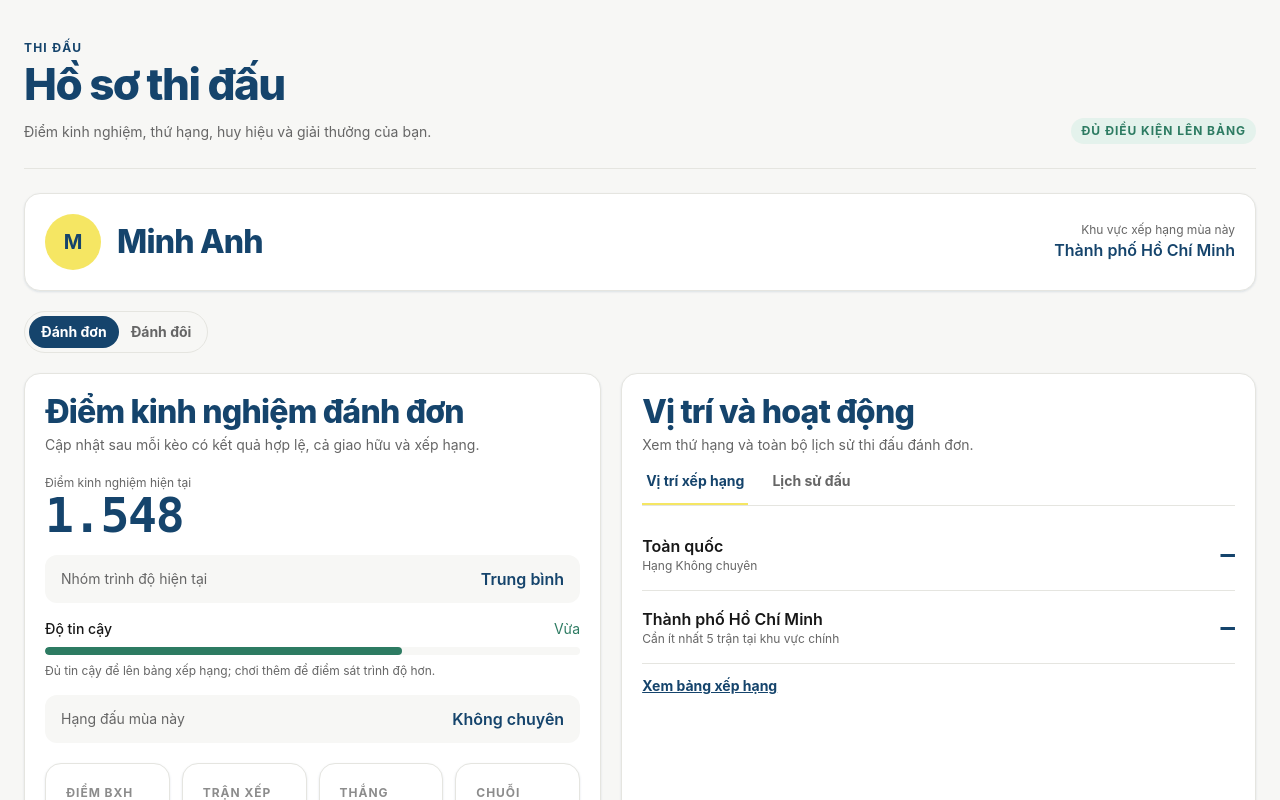
Test case: declares the undeclared doubles tier once
Click the button "Đánh đôi".
click(161, 332)  # box x1=119 y1=316 x2=203 y2=348
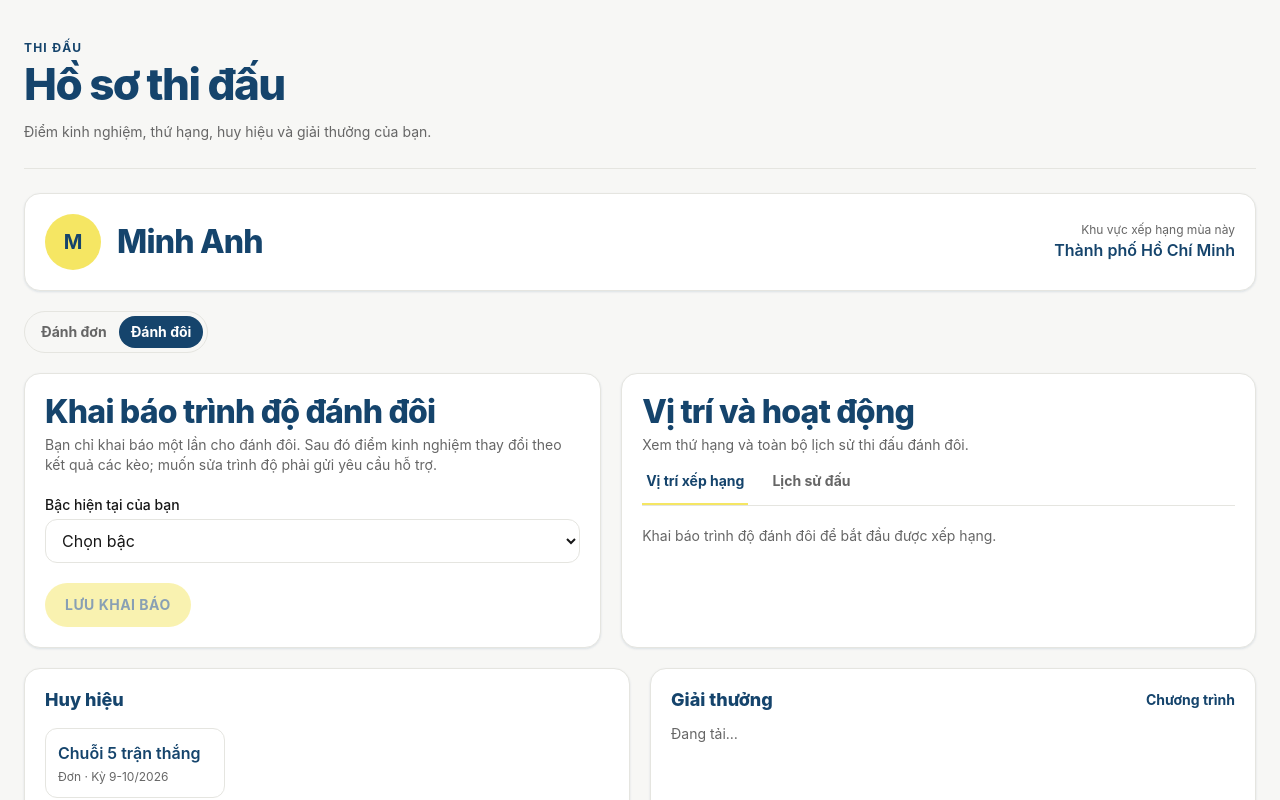
expect the button "Lưu khai báo" is disabled: met, box x1=45 y1=583 x2=191 y2=627
Select "Trung bình khá" in the dropdown labelled "Bậc hiện tại của bạn" at [313, 541], box x1=45 y1=519 x2=580 y2=563
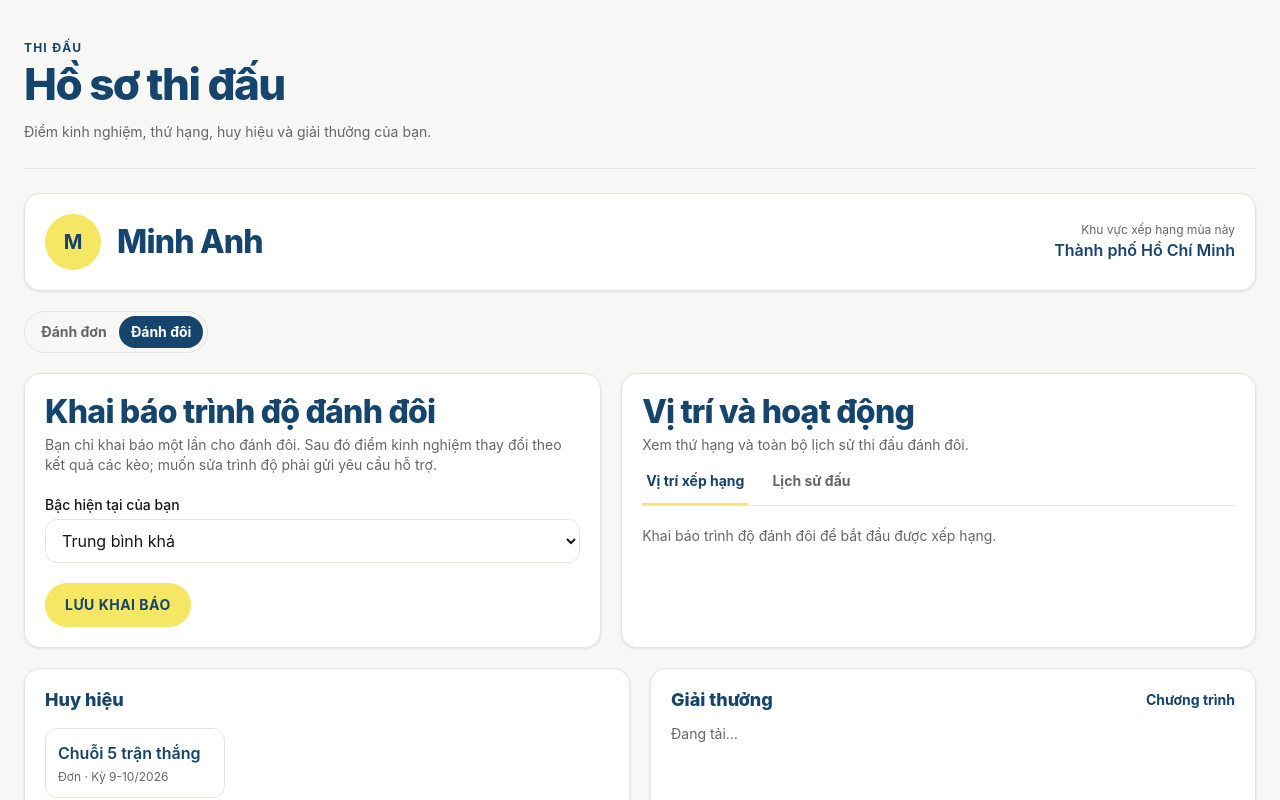
Click the button "Lưu khai báo".
click(118, 605)  # box x1=45 y1=583 x2=191 y2=627
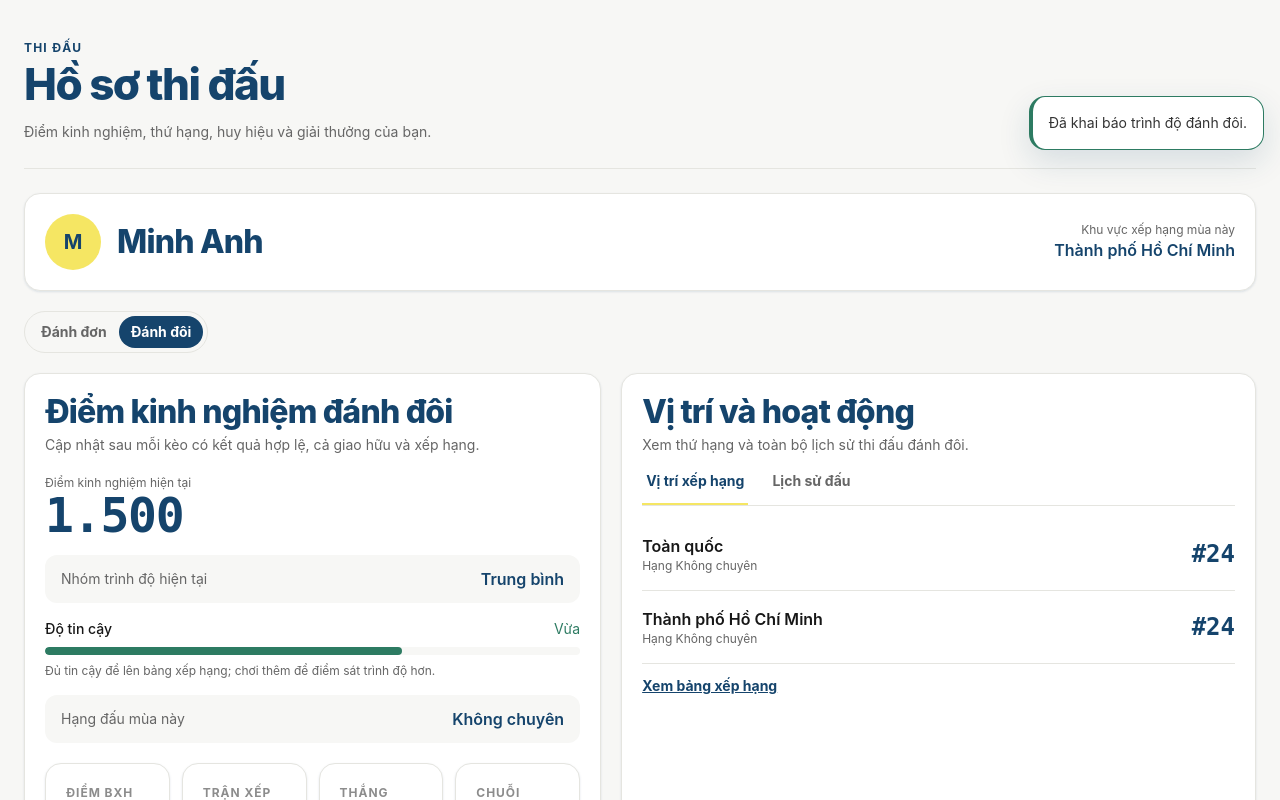
expect the text "1.500" is shown: met, box x1=45 y1=487 x2=184 y2=543
